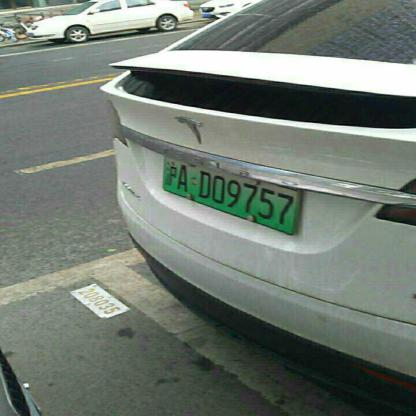lp: (158, 155, 300, 234)
